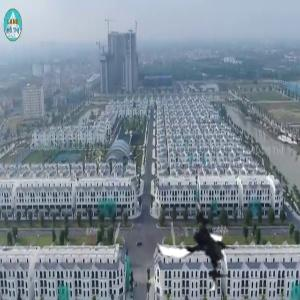drone: (146, 196, 245, 295)
